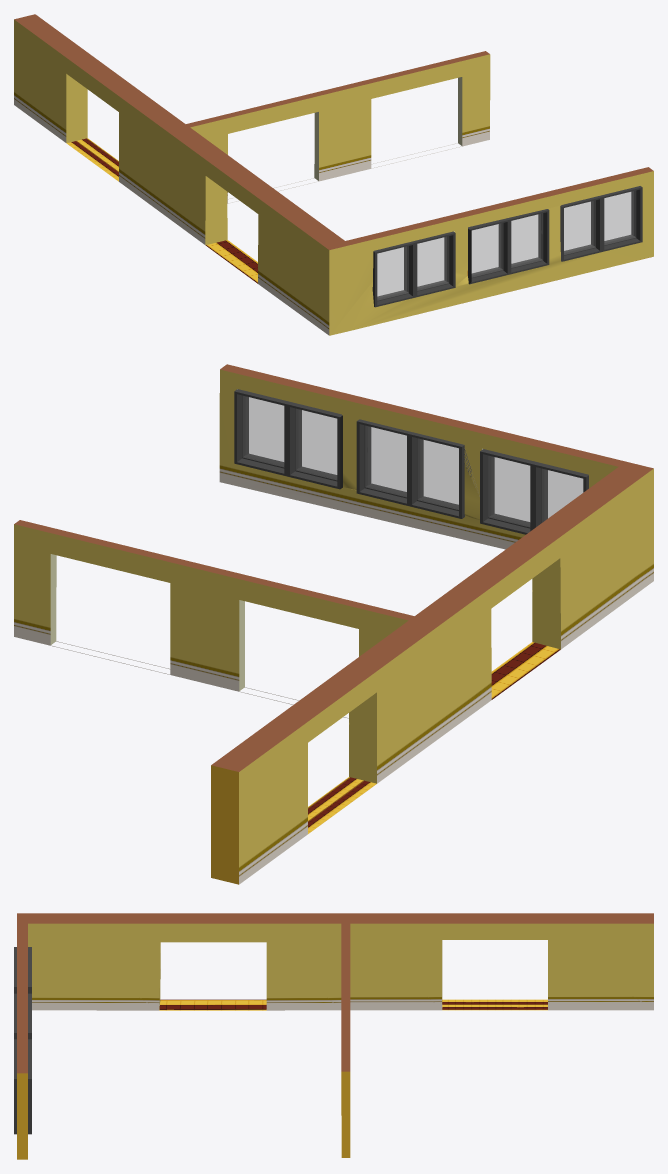
The model's file is Second Floor Wall.fbx.
3 renders of one model, top to bottom at view 1: azimuth 30°, elevation 25°; view 2: azimuth 150°, elevation 25°; view 3: azimuth 270°, elevation 25°, orthographic. The views are drawn at different scales.
Parts seen in each view (by area): view 1: polySurface803; view 2: polySurface803; view 3: polySurface803.
Boxes of the visible parts, <box> form: polySurface803: <box>14,14,653,335</box>; polySurface803: <box>14,364,653,884</box>; polySurface803: <box>14,913,653,1159</box>.
Size of the model in its own units: 1658 by 418 by 2800.
Materials: 6 (2 with a texture image).
